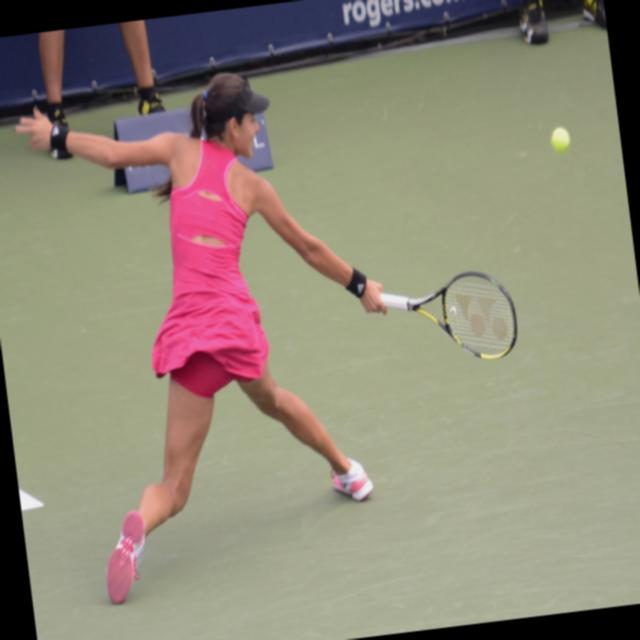Tennis ball: (546, 122, 569, 152), (548, 126, 572, 154)
